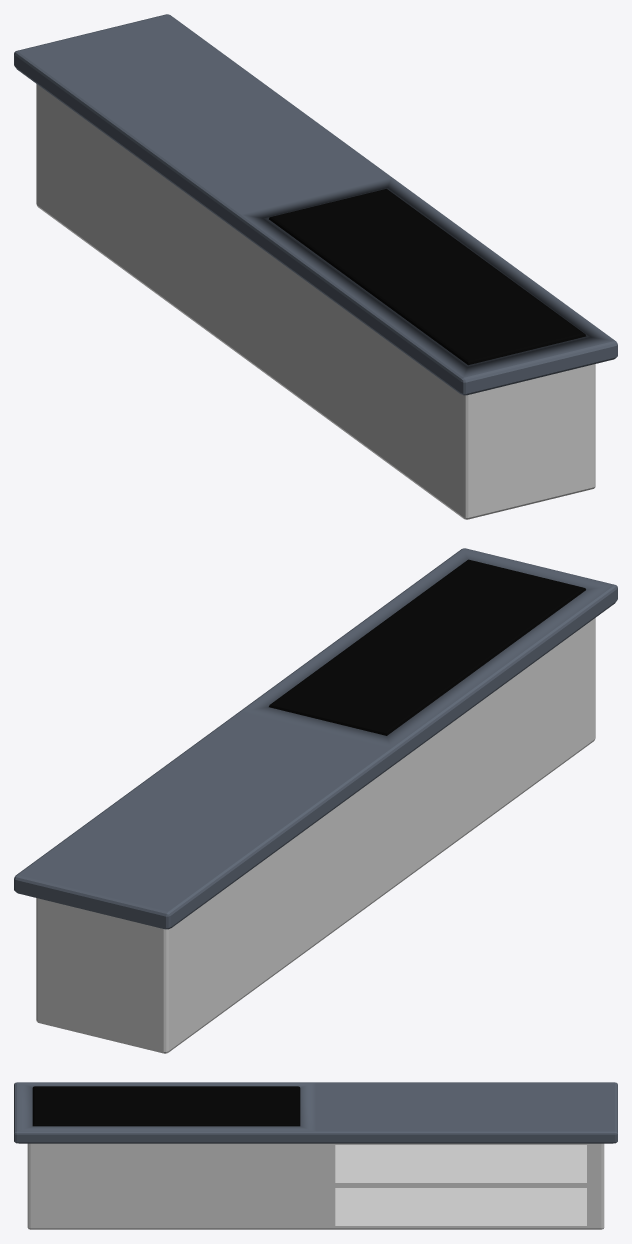
File: stove.fbx
3 renders of one model, top to bottom at view 1: azimuth 30°, elevation 25°; view 2: azimuth 150°, elevation 25°; view 3: azimuth 270°, elevation 25°, orthographic. The views are drawn at different scales.
Visible parts, largest first — view 1: Stove; view 2: Stove; view 3: Stove.
Part boxes in pixels (x1=…): Stove: x1=14, y1=14, x2=617, y2=519; Stove: x1=14, y1=548, x2=617, y2=1053; Stove: x1=14, y1=1082, x2=617, y2=1229.
Size of the model in its own units: 199 by 188 by 993.
